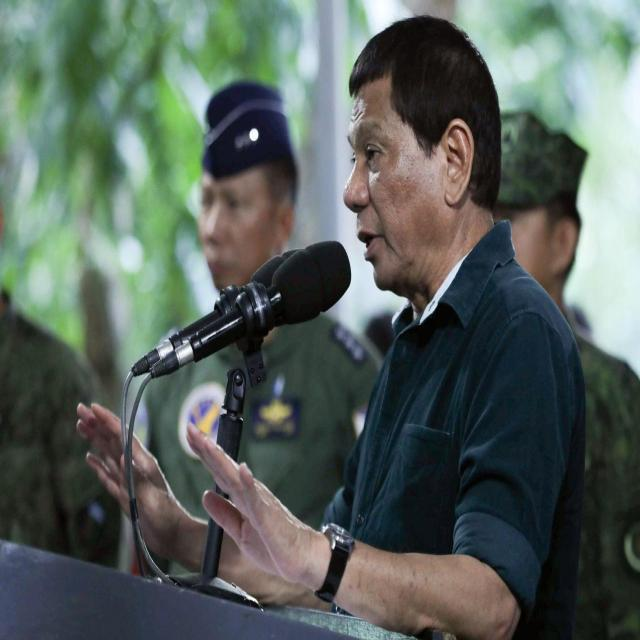body: (74, 8, 590, 639), (130, 74, 388, 585), (500, 106, 639, 640), (363, 297, 589, 369)
